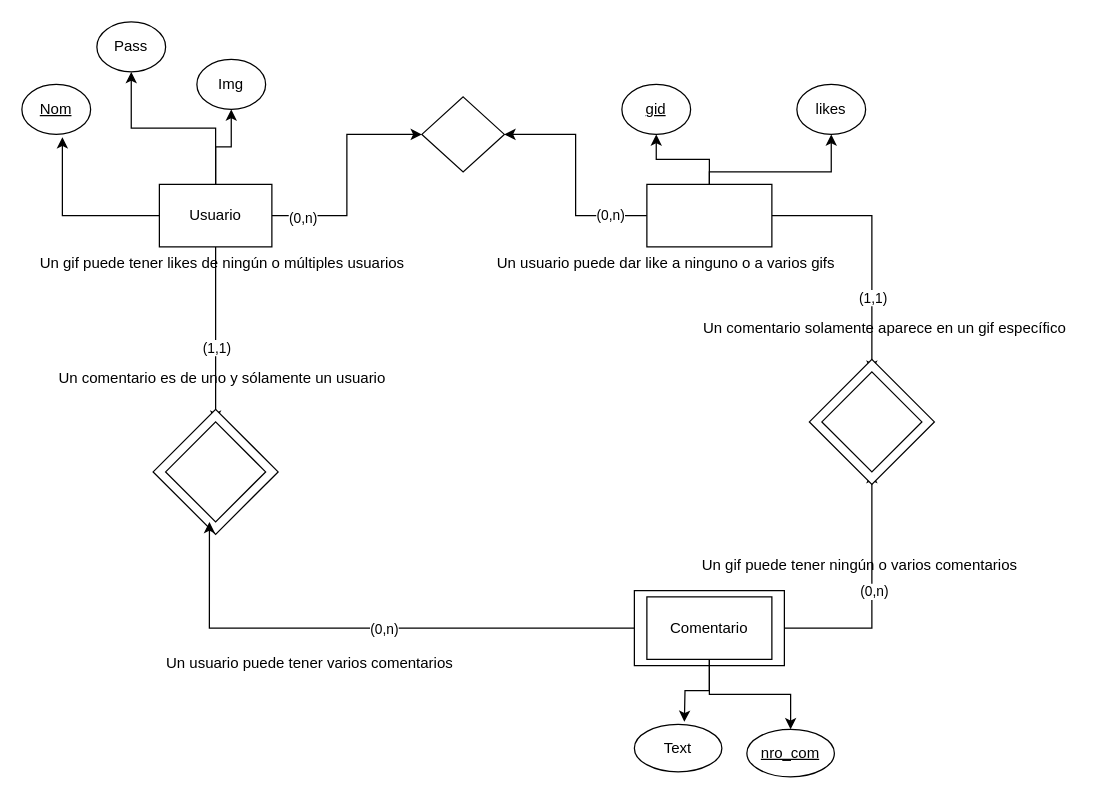
Some shapes in this 1100 by 799 pixel diagram are drawn without their labels. The centre of each missing label's shape, as x and y in pixels:
Comenta: point 215,471
Gif: point 709,215
Likea: point 462,134
Tiene: point 871,421
